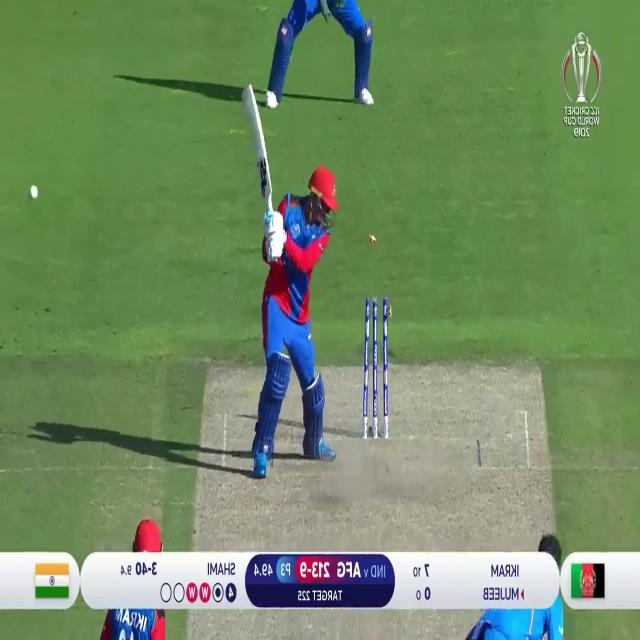ball: (27, 180, 39, 204)
